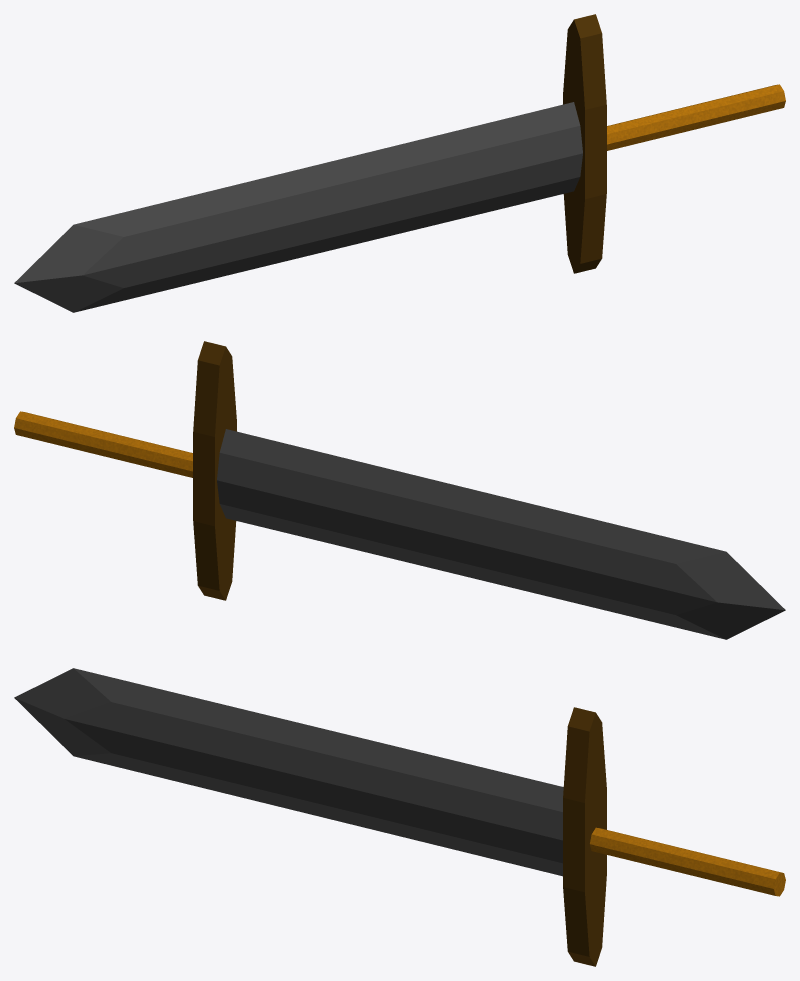
Rendered from SkeSword.fbx.
The picture shows the model from 3 angles, top to bottom: view 1: azimuth 30°, elevation 25°; view 2: azimuth 150°, elevation 25°; view 3: azimuth 330°, elevation 25°; orthographic projection.
Parts seen in each view (by area): view 1: sword2; view 2: sword2; view 3: sword2.
Part boxes in pixels (x1,y1,x2,y2): sword2: (14,14,785,312); sword2: (14,341,785,639); sword2: (14,668,785,966).
Bounding box in the file's own units: 31.32 × 9.94 × 1.56.
1 material, 1 textured.
